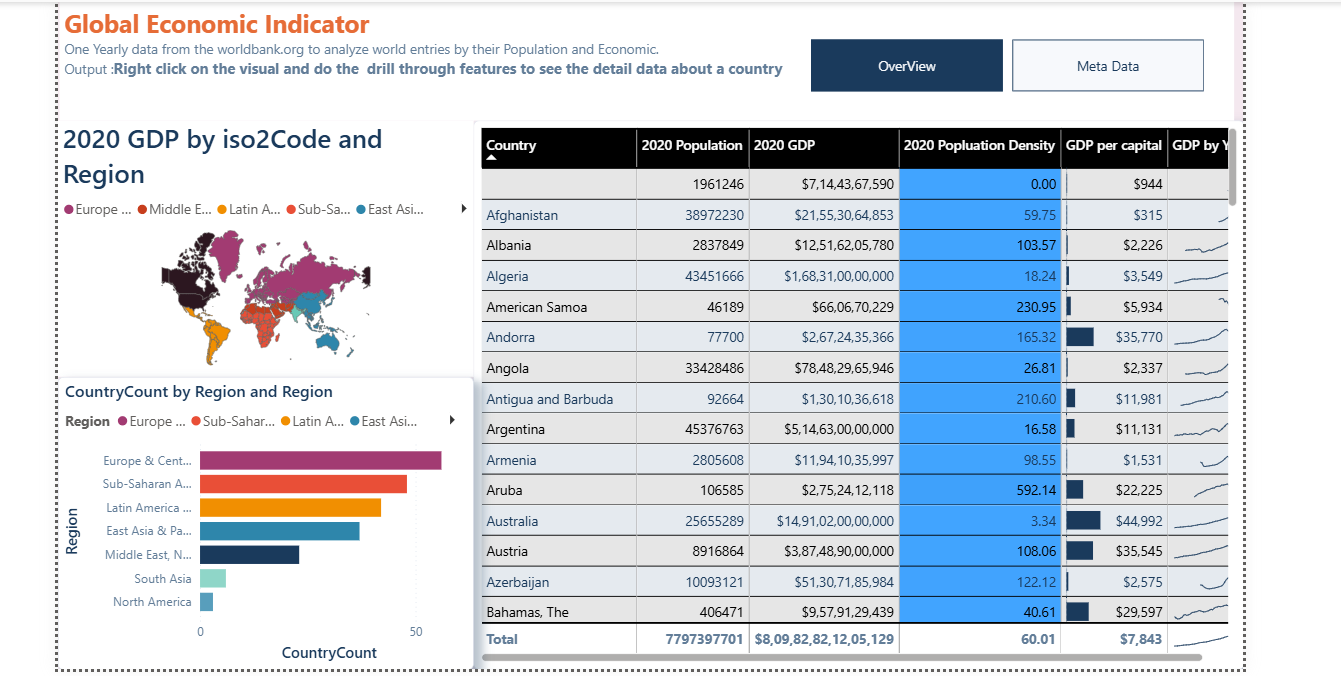

The page's visual inventory and layout, read from the dashboard file:
{"tool":"powerbi","page":{"name":"OverView","canvas":[1280,720],"ordinal":1},"visuals":[{"type":"tableEx","fields":{"Values":["Country.Country","_Measure.2020 Population","_Measure.2020 GDP","_Measure.2020 Popluation Density","_Measure.GDP per capital","SparklineData(_Measure.GDP_[Indicator.Year])"]},"box":[448.5,127.9,832.3,592.6],"z":0},{"type":"shapeMap","fields":{"Category":["Country.iso2Code"],"Series":["Country.Region"]},"box":[0,127.9,448.5,276.9],"z":1000},{"type":"barChart","fields":{"Category":["Country.Region"],"Y":["_Measure.CountryCount"],"Series":["Country.Region"]},"box":[0,404.8,448.5,315.7],"z":2000},{"type":"textbox","box":[1.6,0,1267.9,127.9],"z":2001},{"type":"pageNavigator","box":[812.9,40.5,424.2,56.7],"z":2002}]}

Visuals, with their boxes on the page's 1280x720 design canvas (x1, y1, x2, y2). These are canvas units, not pixel positions in the 1341x676 screenshot, which may show the page scaled, cropped or inside an application window:
tableEx - Country.Country x _Measure.2020 Population: <box>448,128,1281,720</box>
shapeMap - Country.iso2Code x Country.Region: <box>0,128,448,405</box>
barChart - Country.Region x _Measure.CountryCount: <box>0,405,448,720</box>
textbox: <box>2,0,1270,128</box>
pageNavigator: <box>813,40,1237,97</box>
